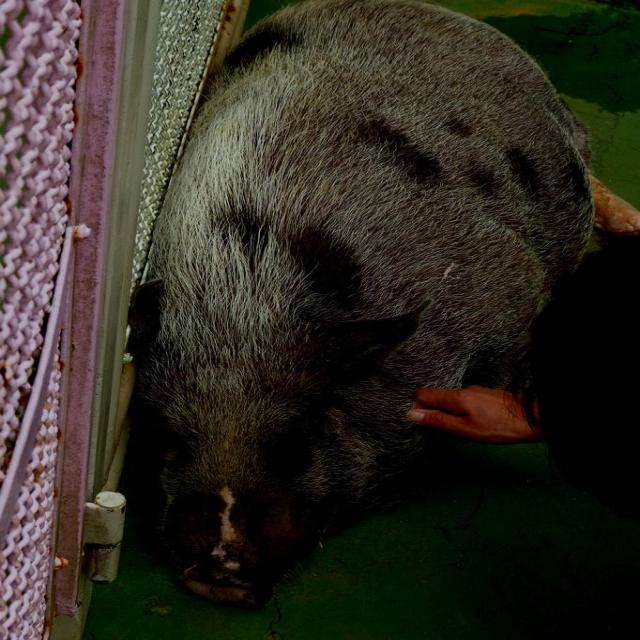pig: (130, 0, 592, 604)
